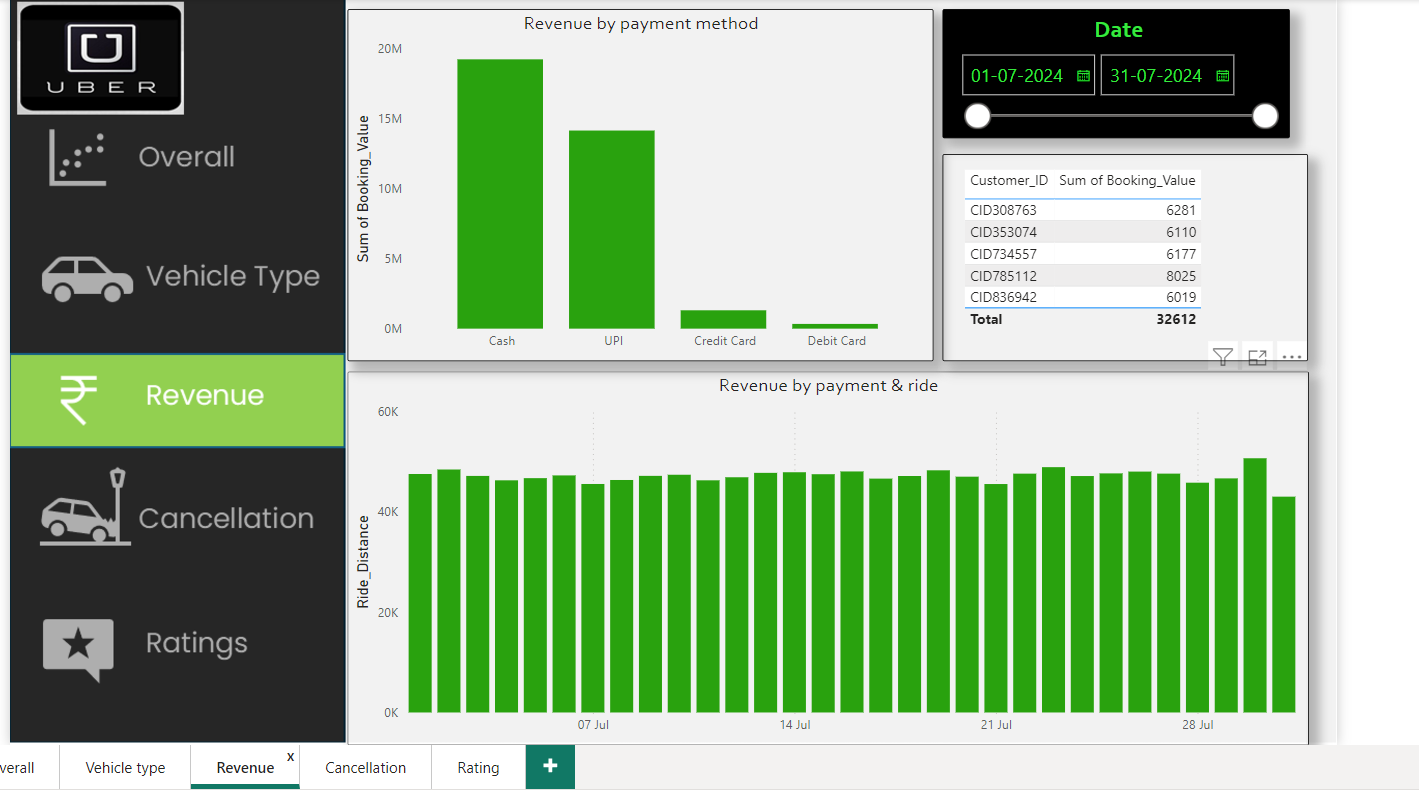

The dashboard page shown, as its layout file describes it:
{"tool":"powerbi","page":{"name":"Revenue","canvas":[1280,720],"ordinal":2},"visuals":[{"type":"actionButton","box":[0,441.6,324.5,100.1],"z":0},{"type":"actionButton","box":[0,222,324.5,100.1],"z":1000},{"type":"actionButton","box":[0,113.4,324.5,100.1],"z":2000},{"type":"actionButton","box":[0,441.6,324.5,100.1],"z":3000},{"type":"actionButton","box":[0,580.3,324.5,100.1],"z":4000},{"type":"columnChart","title":"Revenue by payment method","fields":{"Y":["Sum(July.Booking_Value)"],"Category":["July.Payment_Method"]},"box":[325.2,9.6,565.4,340.3],"z":5000},{"type":"slicer","title":"Date","fields":{"Values":["July.Date"]},"box":[900.2,9.6,334.8,124.9],"z":6000},{"type":"columnChart","title":"Revenue by payment & ride","fields":{"Y":["Sum(July.Ride_Distance)"],"Category":["July.Date"]},"box":[325.2,359.5,927.6,360.9],"z":7000},{"type":"tableEx","title":"Top 5 customer","fields":{"Values":["July.Customer_ID","Sum(July.Booking_Value)"]},"box":[900.2,149.6,352.7,200.3],"z":8000}]}

Visuals, with their boxes in screenshot pixels (x1, y1, x2, y2):
actionButton: bbox=(4, 450, 343, 555)
actionButton: bbox=(4, 221, 343, 325)
actionButton: bbox=(4, 107, 343, 212)
actionButton: bbox=(4, 450, 343, 555)
actionButton: bbox=(4, 595, 343, 700)
"Revenue by payment method" columnChart: bbox=(343, 0, 934, 354)
"Date" slicer: bbox=(944, 0, 1294, 129)
"Revenue by payment & ride" columnChart: bbox=(343, 364, 1313, 742)
"Top 5 customer" tableEx: bbox=(944, 145, 1313, 354)
